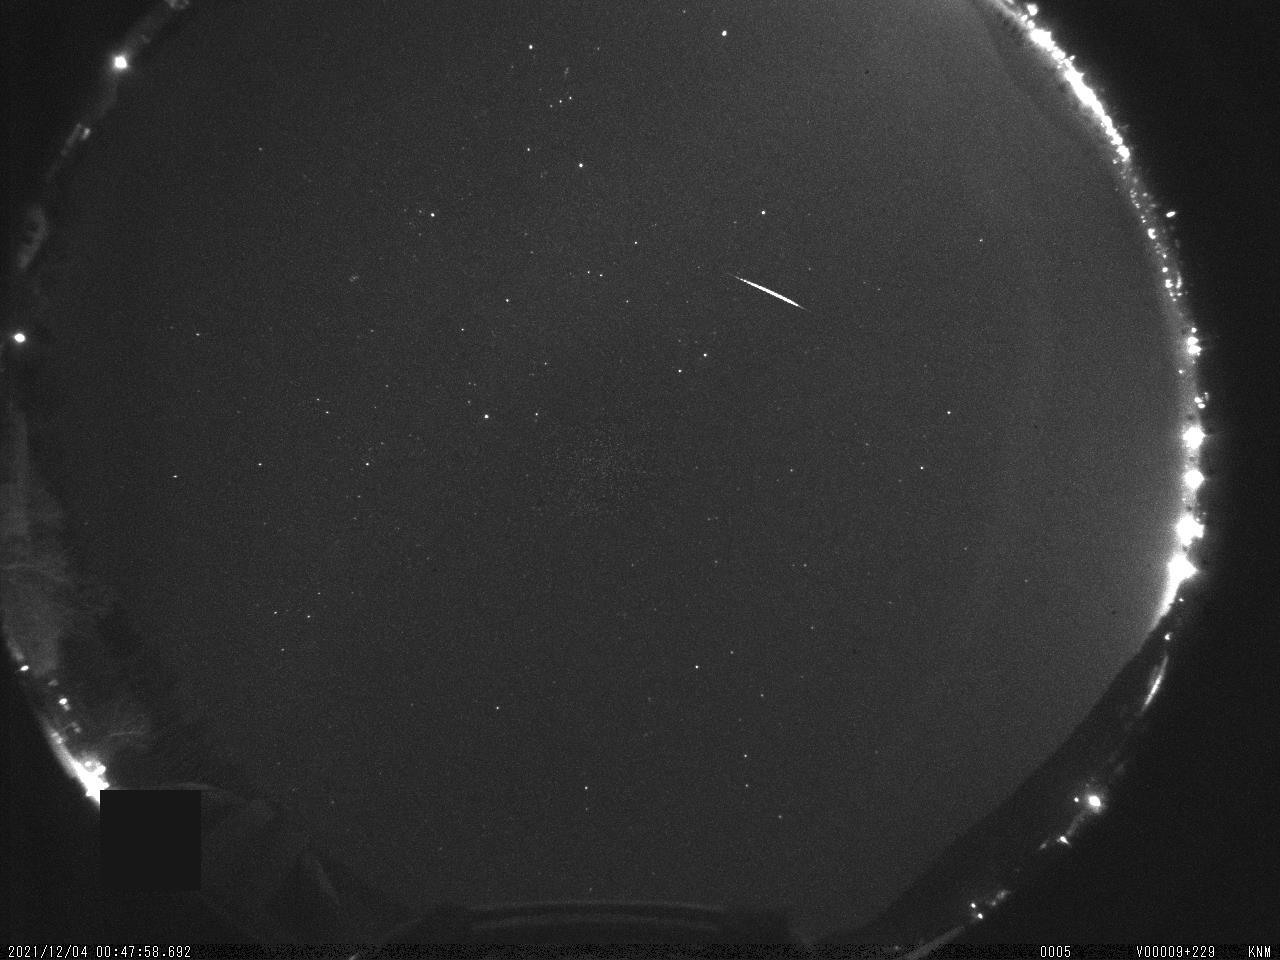meteor: (718, 266, 818, 319)
